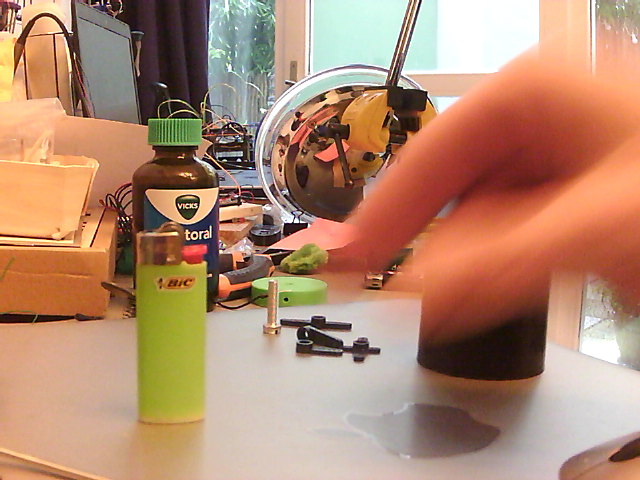bolt: (262, 278, 281, 337)
lighter: (134, 230, 206, 427)
